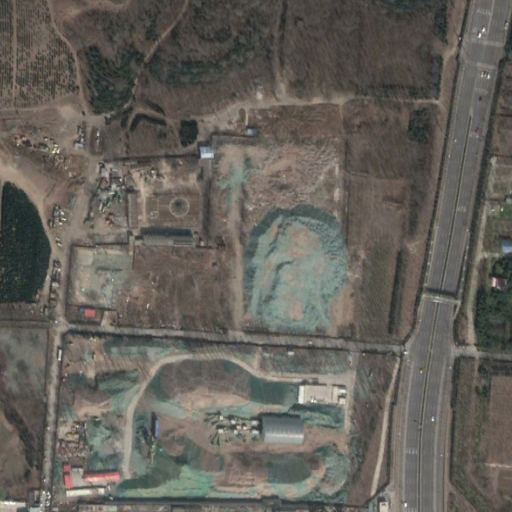cw: (52, 332, 356, 505), (210, 133, 348, 332)
